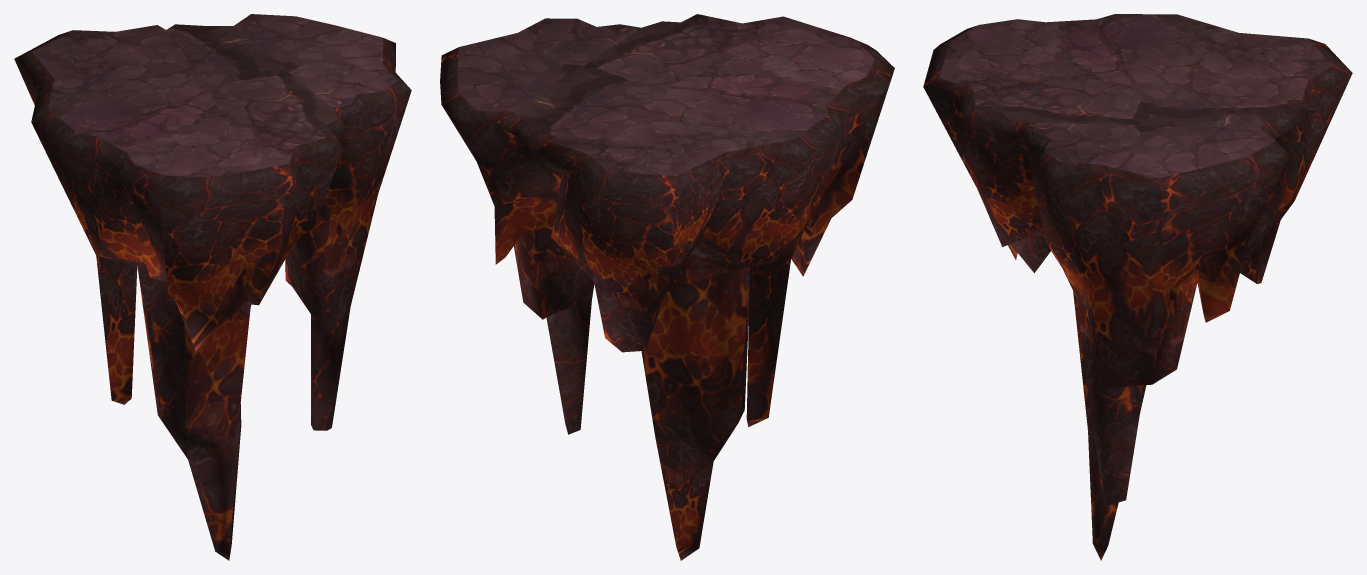
The model's file is hs_shan_24.FBX.
The picture shows the model from 3 angles, left to right: view 1: azimuth 30°, elevation 25°; view 2: azimuth 150°, elevation 25°; view 3: azimuth 270°, elevation 25°; orthographic projection. The views are drawn at different scales.
Parts seen in each view (by area): view 1: hs_shan_24; view 2: hs_shan_24; view 3: hs_shan_24.
Boxes of the visible parts, bbox=[...] form: hs_shan_24: bbox=[14, 14, 411, 560]; hs_shan_24: bbox=[440, 14, 894, 560]; hs_shan_24: bbox=[923, 14, 1352, 560].
Bounding box in the file's own units: 2308 × 2848 × 2339.
